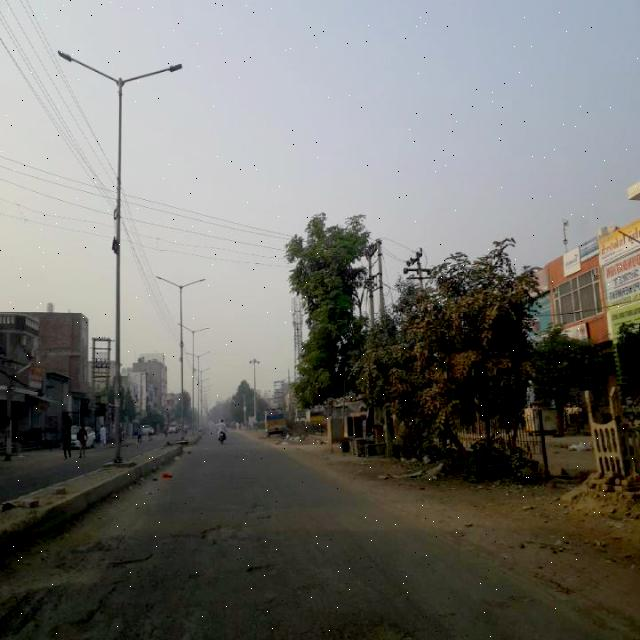D40: (66, 526, 158, 638), (193, 496, 274, 548), (241, 556, 288, 582)
